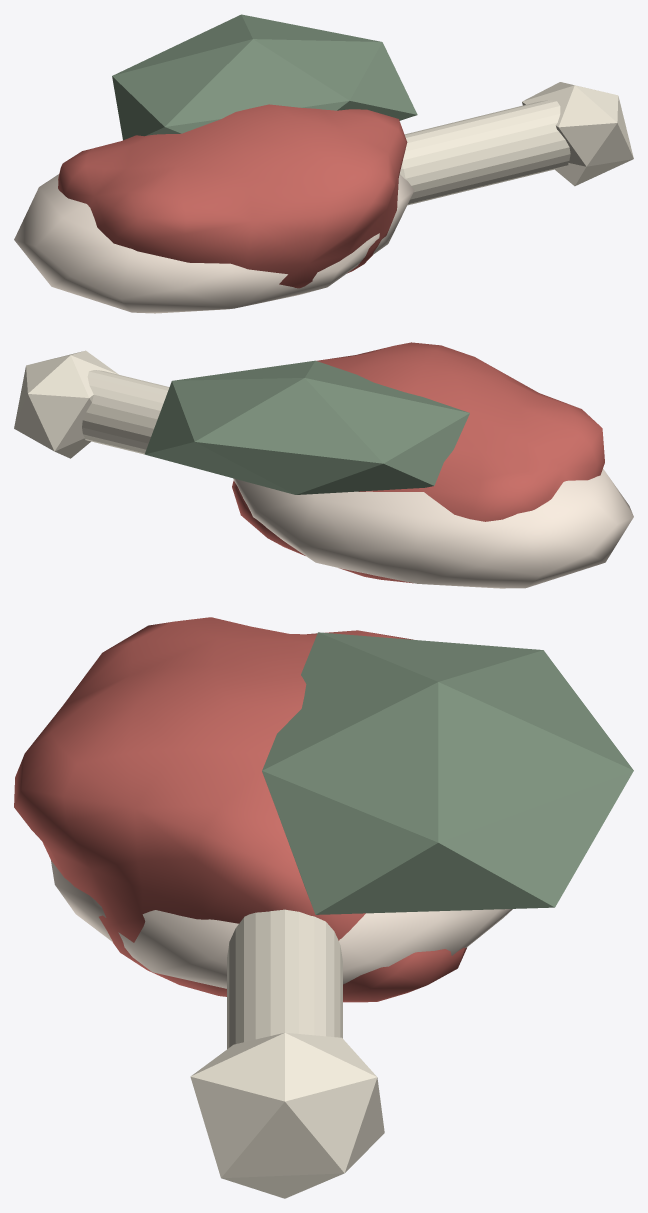
Rendered from beetle_meat.glb.
The picture shows the model from 3 angles, top to bottom: view 1: azimuth 30°, elevation 25°; view 2: azimuth 150°, elevation 25°; view 3: azimuth 270°, elevation 25°; orthographic projection. The views are drawn at different scales.
Visible parts, largest first — view 1: model; view 2: model; view 3: model.
Boxes of the visible parts, box(x1,y1,x2,y2) form: model: box(14, 14, 633, 313); model: box(14, 342, 633, 588); model: box(14, 617, 633, 1198).
Bounding box in the file's own units: 0.3583 × 0.119 × 0.2019.
